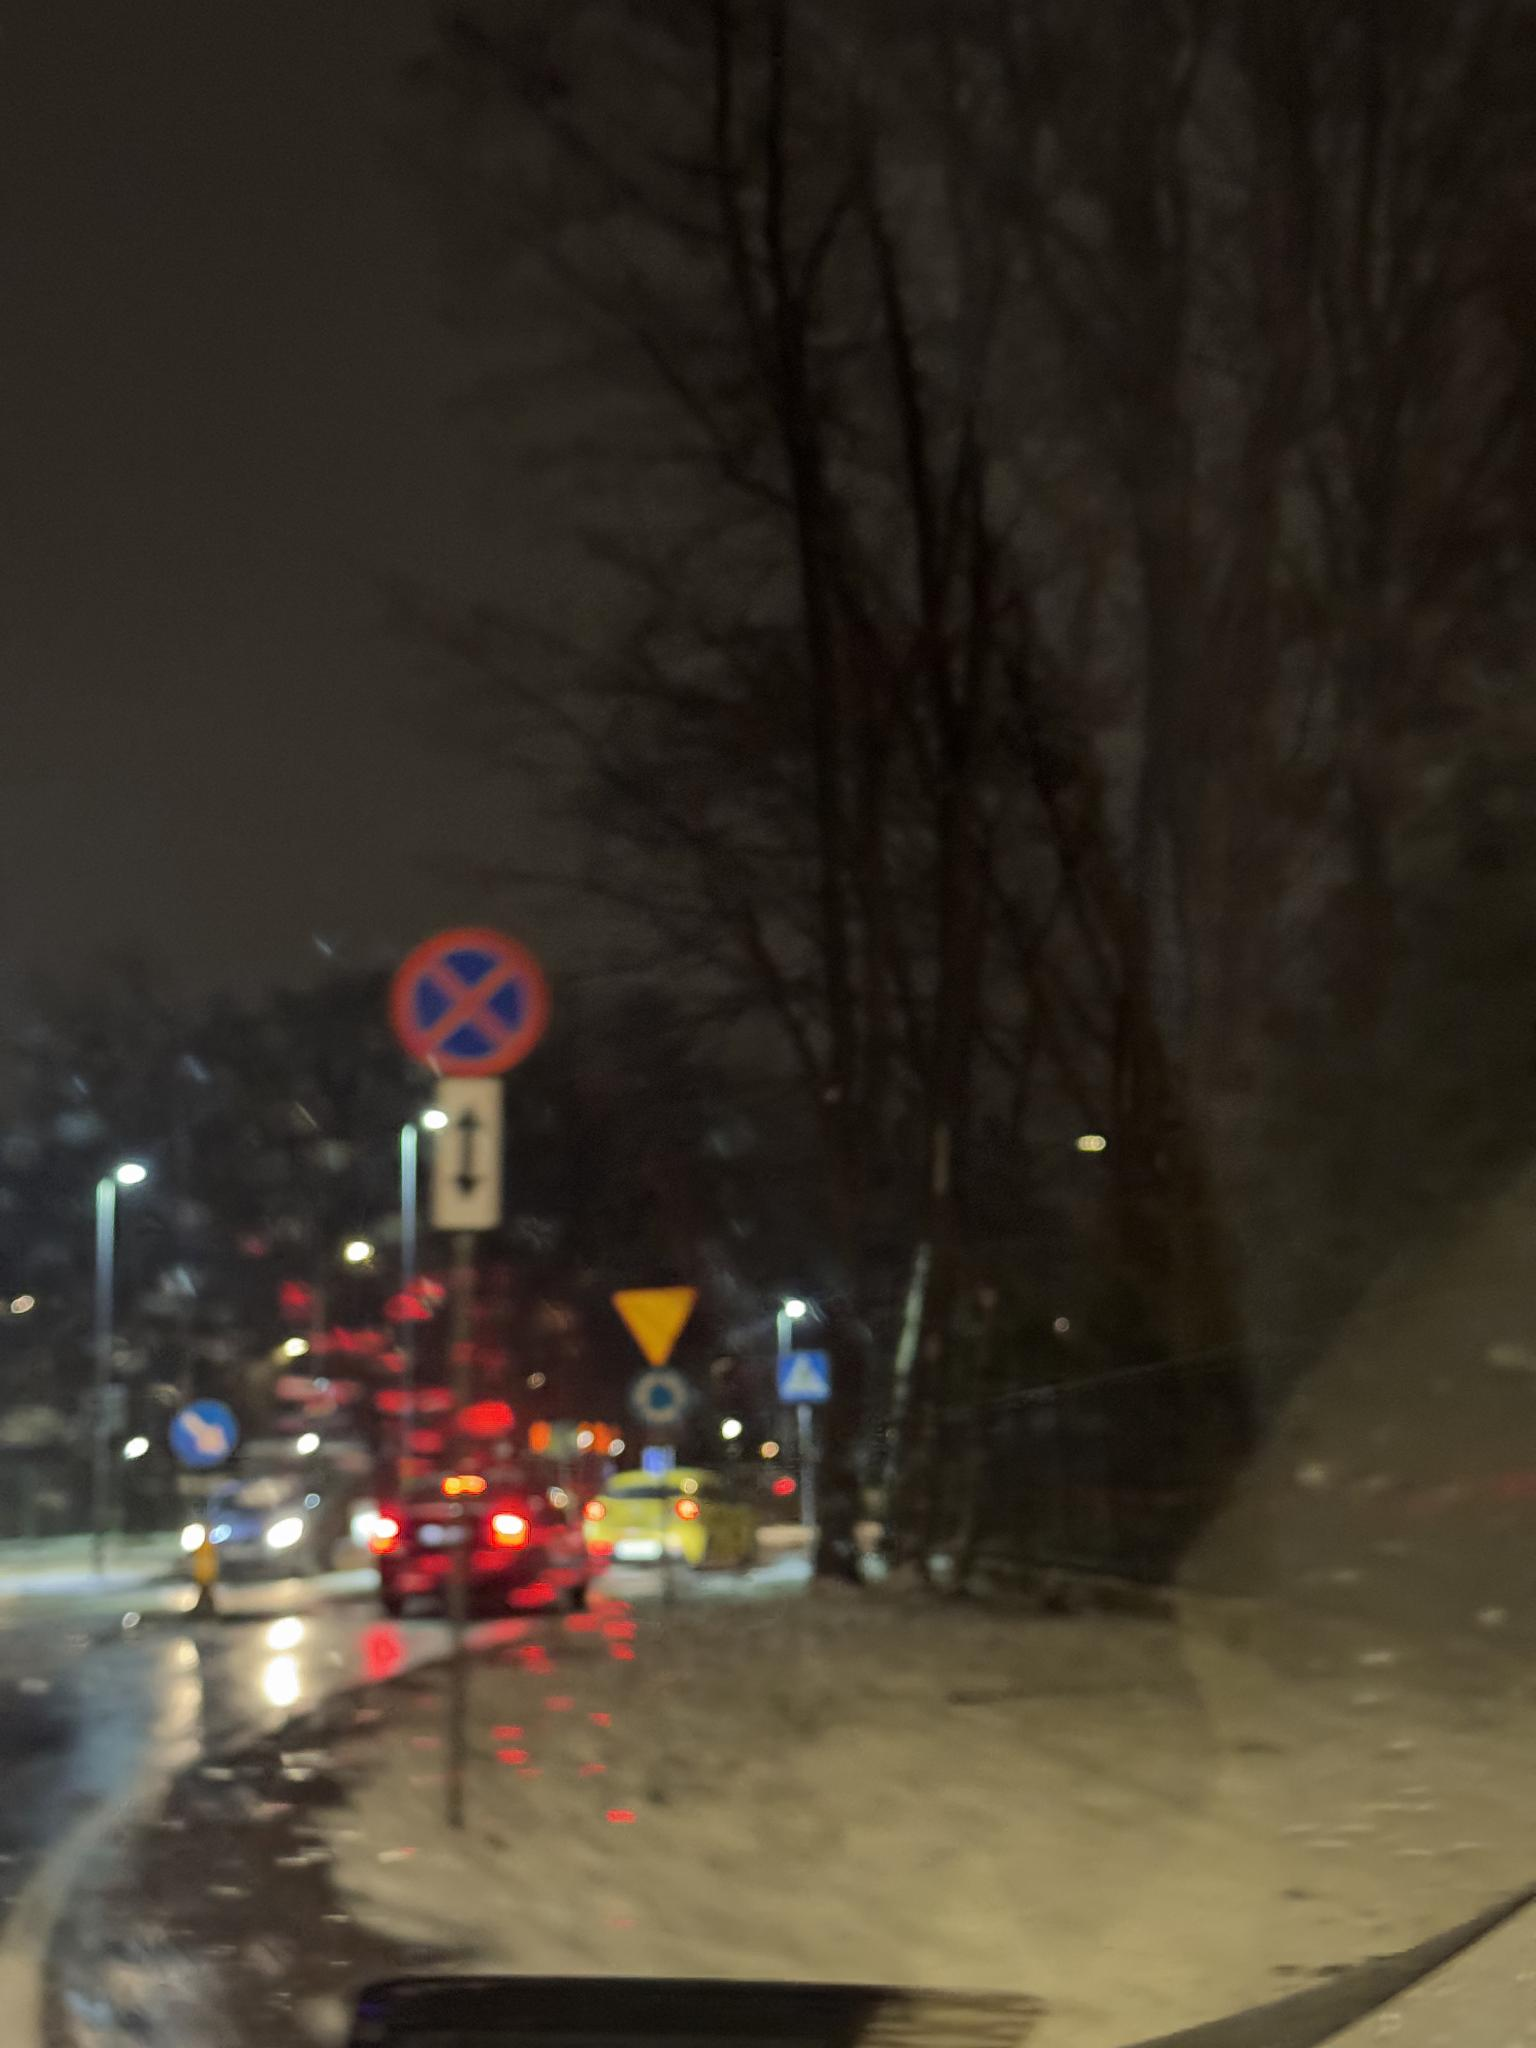information: (776, 1355, 829, 1403)
mandatory: (171, 1398, 245, 1471), (626, 1367, 694, 1432)
other: (436, 1082, 503, 1230)
prohibitory: (387, 924, 552, 1080)
warning: (608, 1282, 700, 1367)
